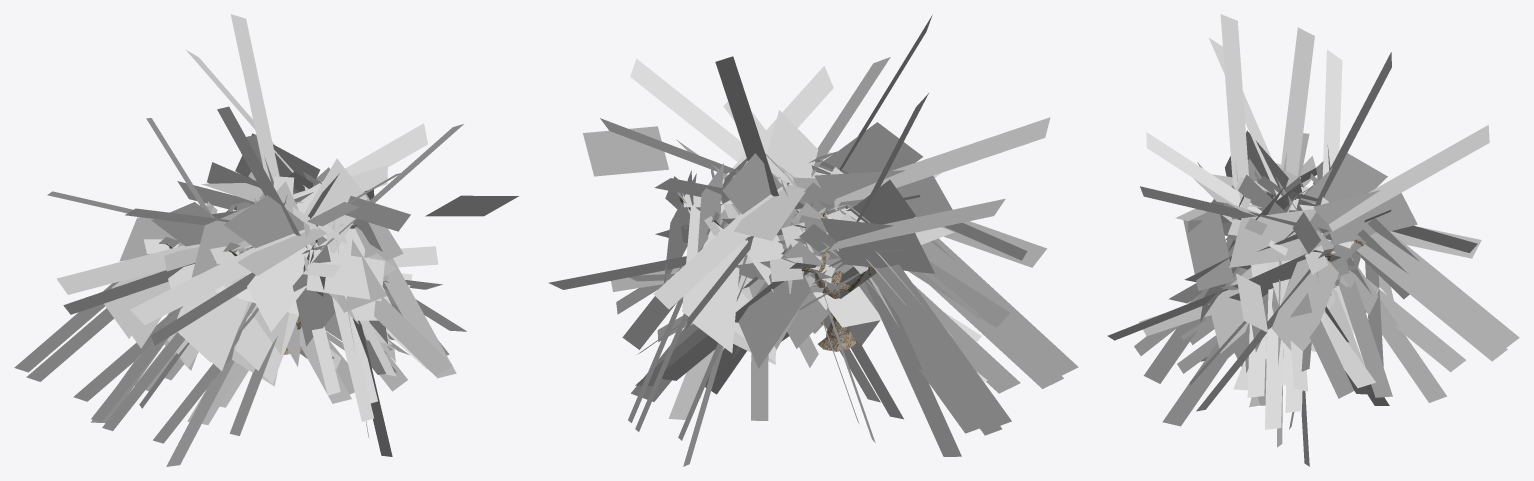
The model's file is trees.fbx.
3 renders of one model, left to right at view 1: azimuth 30°, elevation 25°; view 2: azimuth 150°, elevation 25°; view 3: azimuth 270°, elevation 25°, orthographic. The views are drawn at different scales.
Visible parts, largest first — view 1: Plane205, Plane210, Plane046, Plane213, Plane246, Plane124, Plane225, Plane034, Plane216, Plane235, Plane222, Plane243 (+43 smaller); view 2: Plane142, Plane223, Plane232, Plane153, Plane087, Plane136, Plane247, Plane060, Plane040, Plane213, Plane214, Plane234 (+46 smaller); view 3: Plane058, Plane003, Plane211, Plane064, Plane067, Plane072, Plane130, Plane069, Plane052, Plane246, Plane166, Plane048 (+32 smaller).
Boxes of the visible parts, x1=… form: Plane205: x1=130, y1=215, x2=332, y2=324; Plane210: x1=247, y1=219, x2=320, y2=331; Plane046: x1=230, y1=14, x2=279, y2=181; Plane213: x1=224, y1=195, x2=326, y2=248; Plane246: x1=306, y1=249, x2=384, y2=301; Plane124: x1=57, y1=244, x2=252, y2=294; Plane225: x1=177, y1=253, x2=236, y2=362; Plane034: x1=374, y1=297, x2=452, y2=376; Plane216: x1=304, y1=158, x2=367, y2=252; Plane235: x1=293, y1=123, x2=427, y2=213; Plane222: x1=235, y1=312, x2=298, y2=383; Plane243: x1=292, y1=245, x2=335, y2=345; Plane142: x1=879, y1=264, x2=1011, y2=427; Plane223: x1=921, y1=238, x2=1078, y2=377; Plane232: x1=818, y1=117, x2=1050, y2=213; Plane153: x1=820, y1=218, x2=934, y2=273; Plane087: x1=738, y1=244, x2=810, y2=368; Plane136: x1=864, y1=279, x2=961, y2=456; Plane247: x1=583, y1=126, x2=668, y2=176; Plane060: x1=682, y1=204, x2=732, y2=344; Plane040: x1=653, y1=172, x2=793, y2=309; Plane213: x1=820, y1=122, x2=922, y2=173; Plane214: x1=630, y1=58, x2=745, y2=161; Plane234: x1=814, y1=170, x2=952, y2=217; Plane058: x1=1370, y1=229, x2=1519, y2=349; Plane003: x1=1271, y1=246, x2=1338, y2=350; Plane211: x1=1220, y1=14, x2=1248, y2=189; Plane064: x1=1356, y1=244, x2=1507, y2=361; Plane067: x1=1321, y1=125, x2=1489, y2=234; Plane072: x1=1229, y1=209, x2=1315, y2=267; Plane130: x1=1280, y1=27, x2=1314, y2=176; Plane069: x1=1313, y1=190, x2=1417, y2=245; Plane052: x1=1341, y1=256, x2=1446, y2=402; Plane246: x1=1183, y1=210, x2=1233, y2=290; Plane166: x1=1338, y1=280, x2=1392, y2=397; Plane048: x1=1286, y1=153, x2=1387, y2=212.
Size of the model in its own units: 311 by 249 by 260.
1 material, 1 textured.
